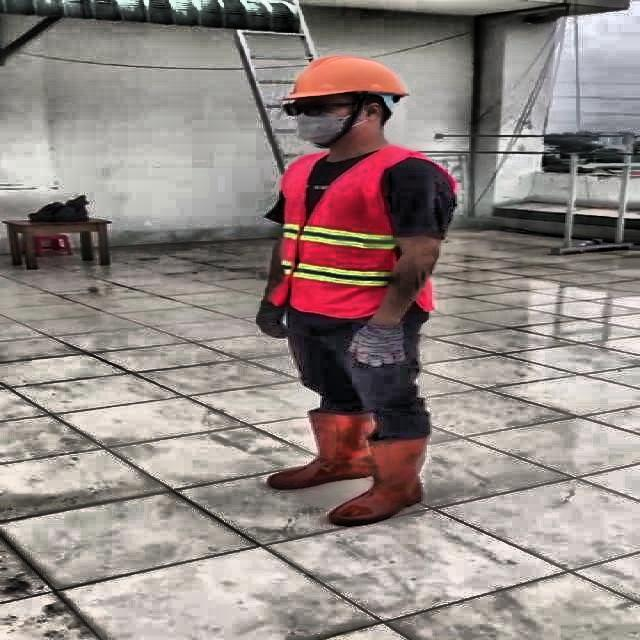safety_helmet: (278, 51, 414, 101)
safety_jacket: (276, 149, 454, 316)
